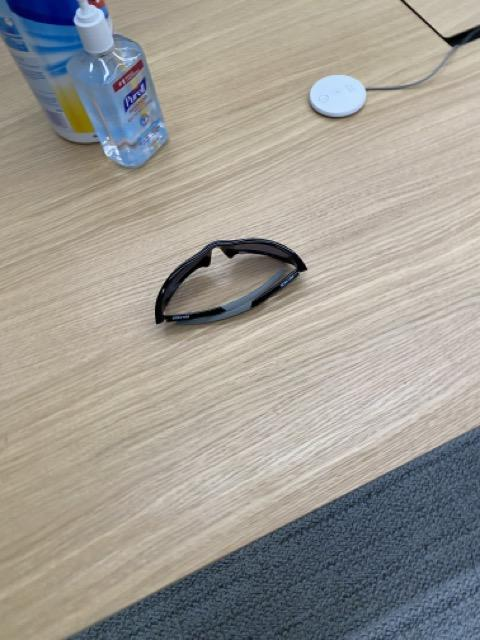Sunglasses: (154, 238, 308, 326)
